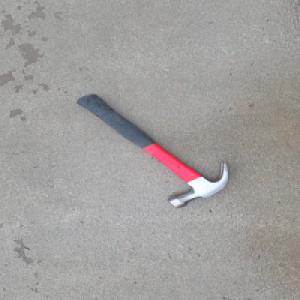Hammer: (75, 95, 230, 210)
